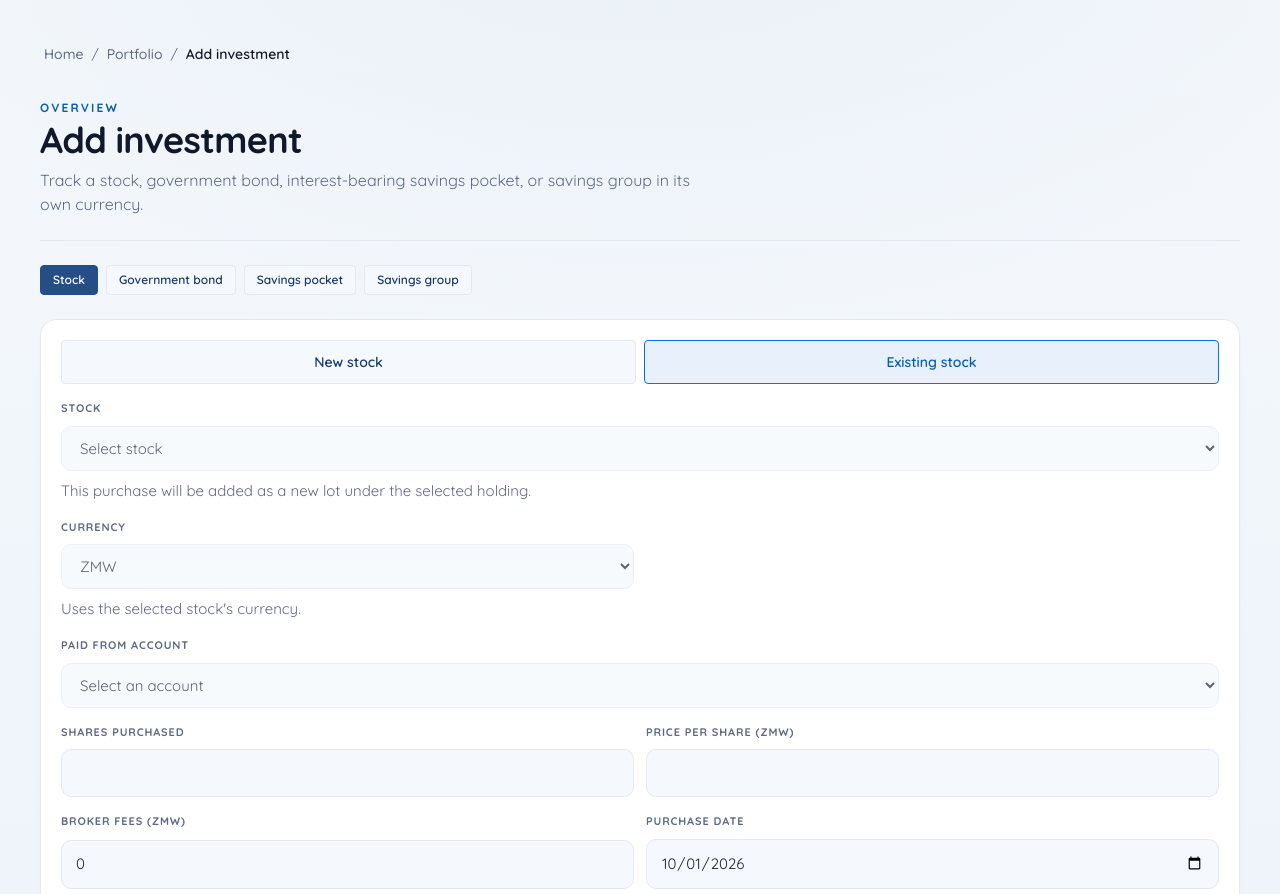
it: AddInvestmentPage savings groups › asks for no funding account, because the group opens its own
Click the button "Savings group" at point(418, 280), box [364,265,472,295]
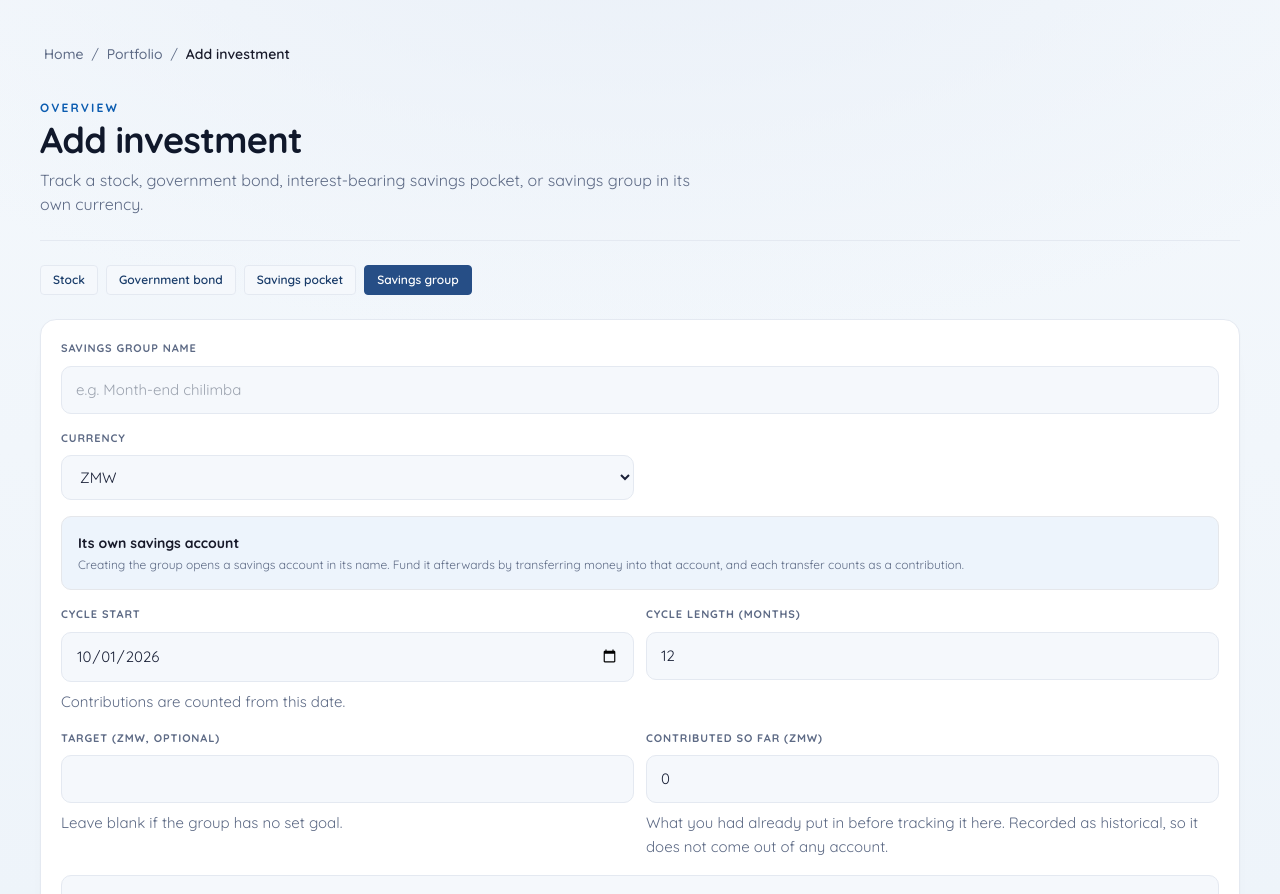
Check: the label labelled "Paid from account" is gone
Check: the text "Its own savings account" is shown, box [78,534,239,552]
